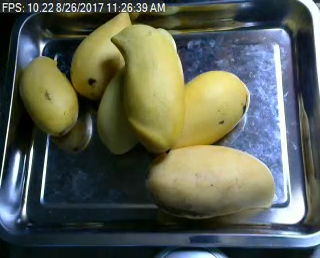Mango: (145, 144, 274, 218), (112, 24, 185, 151), (173, 70, 247, 147), (69, 9, 130, 98), (19, 56, 78, 134), (97, 67, 141, 154)
